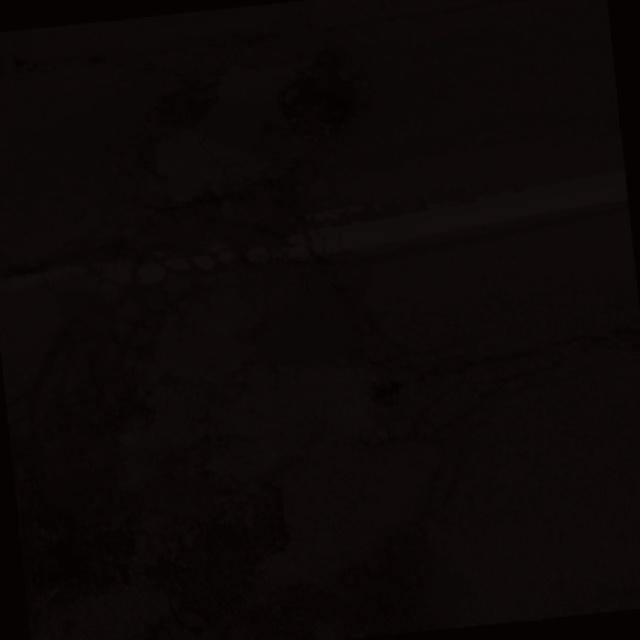Pothole: (153, 406, 464, 632), (115, 38, 336, 204), (237, 267, 381, 378)
